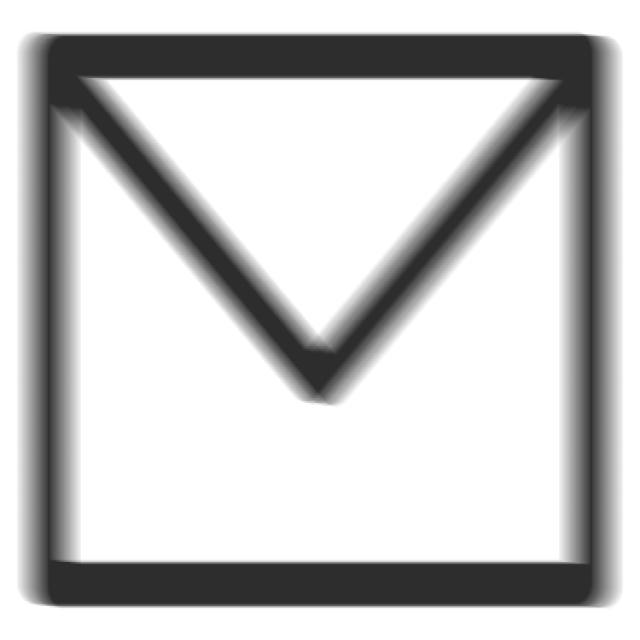letter: (13, 24, 627, 620)
